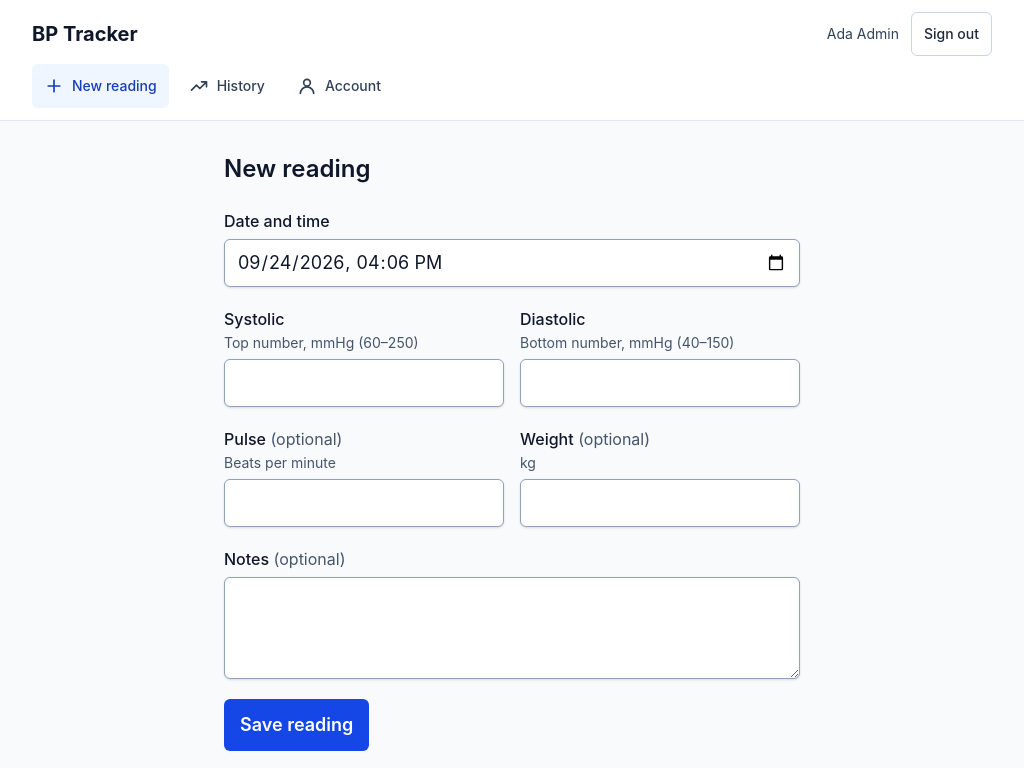
Test case: App › signs out from the header and returns to the login page
Click the button "Sign out" at (952, 34), box [911,12,992,56]
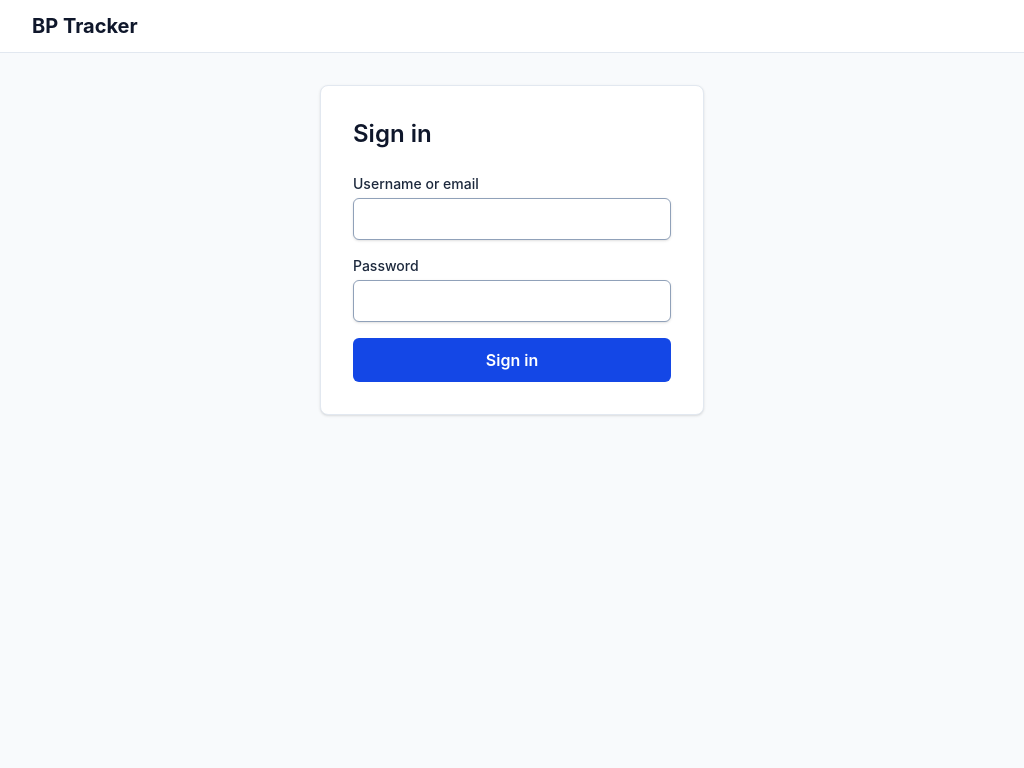
Expected: the heading "Sign in" is shown, [353,119,432,148]
